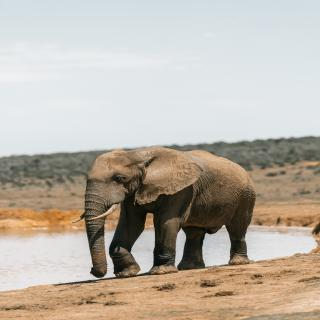Elephant: (70, 146, 265, 280)
